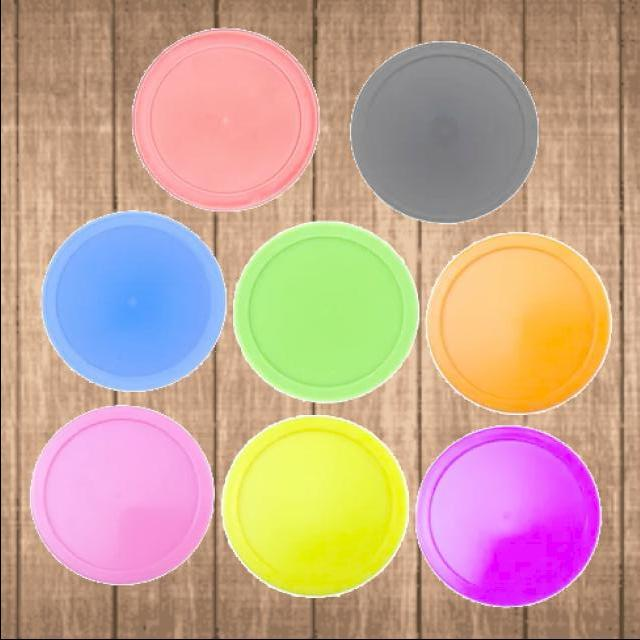chip: (426, 228, 612, 414), (349, 39, 537, 222), (130, 27, 316, 211), (414, 426, 600, 608), (29, 405, 212, 587), (41, 210, 224, 392), (224, 416, 408, 596), (233, 222, 417, 402)
